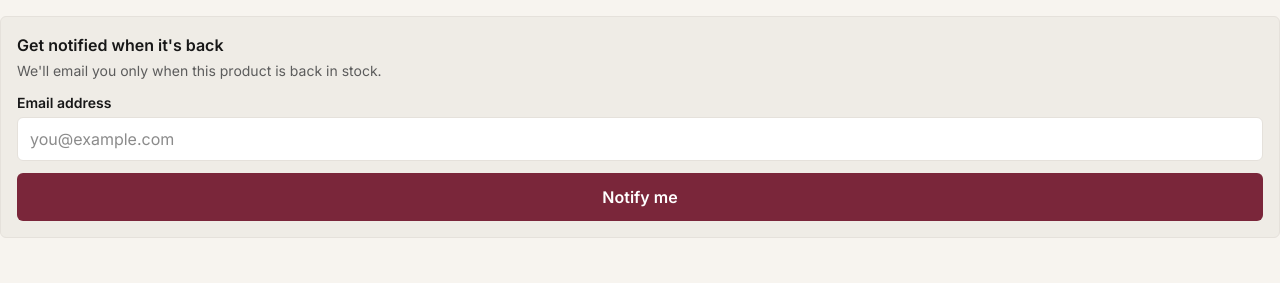
StockAlertForm › shows the server error without hiding the form
In the field named "Email address for stock alerts on SAMPLE Futuristic A": (640, 139) [17,117,1263,161], type "customer@example.com"
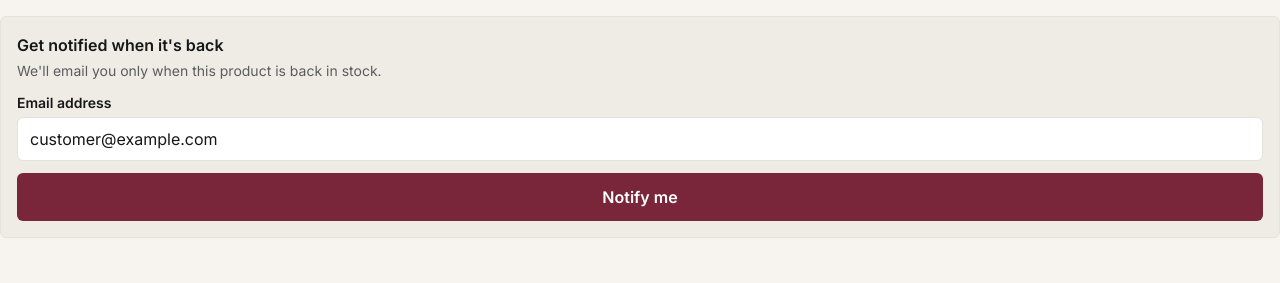
Click the button "Notify me": (640, 197) [17,173,1263,221]
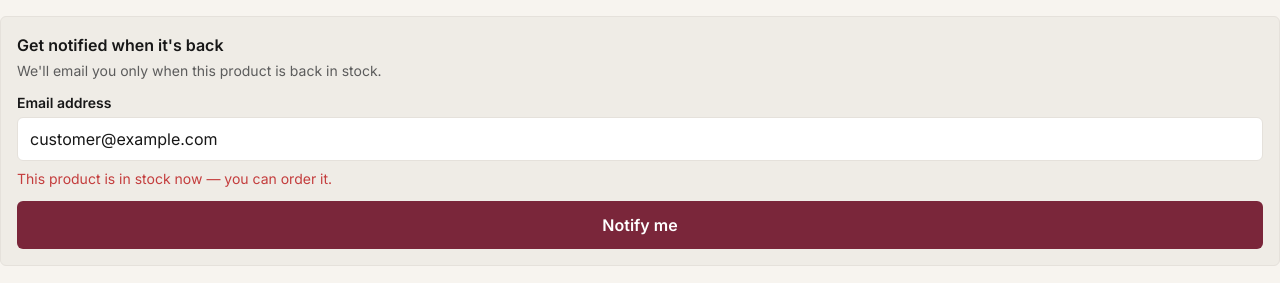
Expected: the button "Notify me" is shown, [17,201,1263,249]
Result: the message reads "This product is in stock now — you can order it." at [17,170,332,187]
